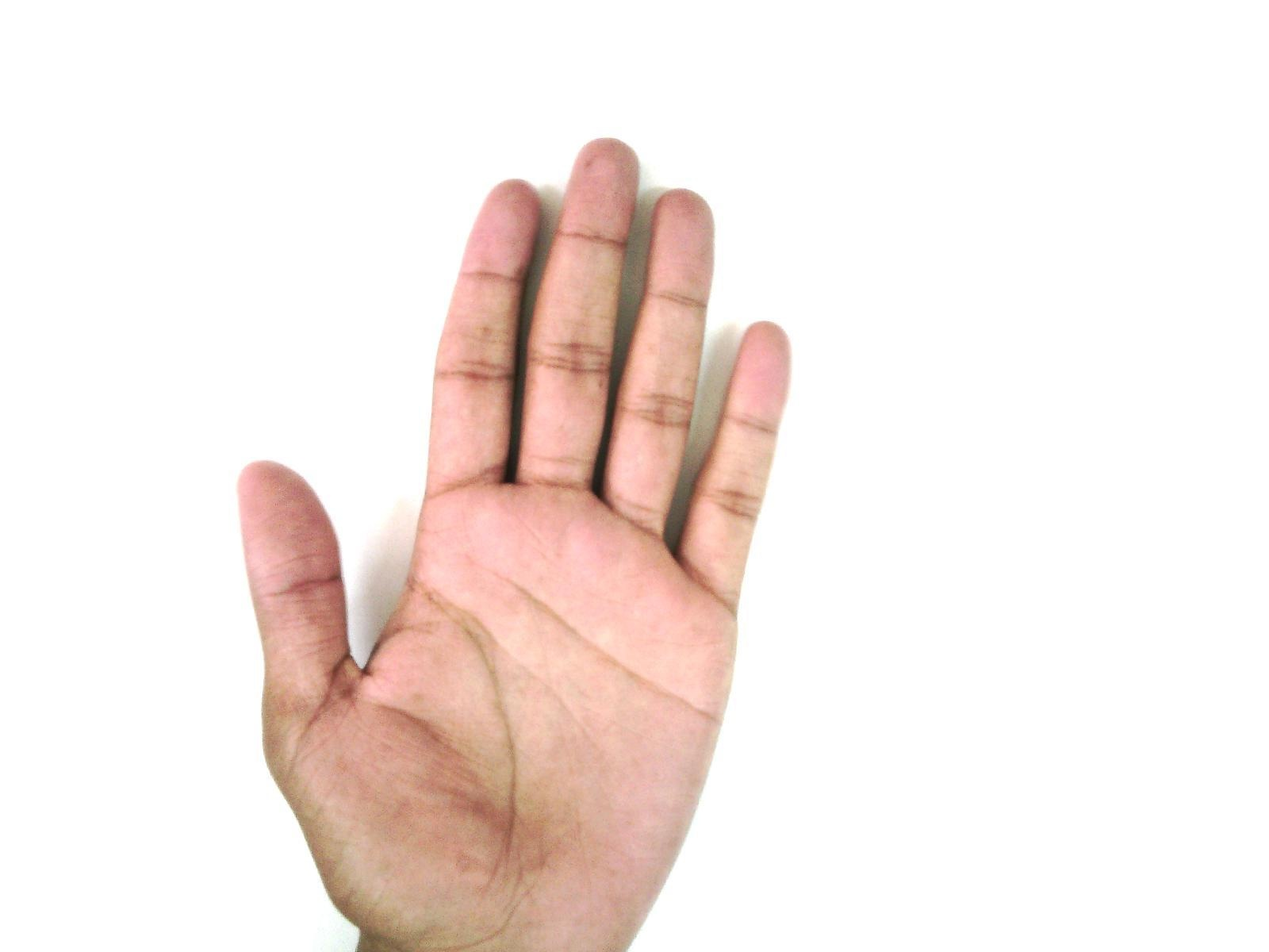open_palm: (235, 136, 795, 951)
